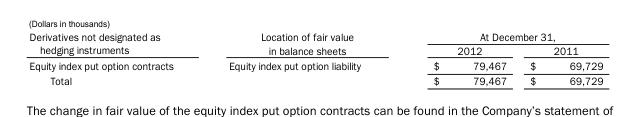table: (28, 29, 602, 86)
table column: (200, 29, 396, 86), (28, 29, 200, 86), (396, 29, 517, 86), (517, 29, 602, 86)
table column header: (28, 29, 602, 57)
table row: (28, 57, 602, 72), (28, 29, 602, 43), (28, 43, 602, 57), (28, 72, 602, 86)
table spanning cell: (200, 29, 396, 57), (28, 29, 200, 57), (396, 29, 602, 43)
